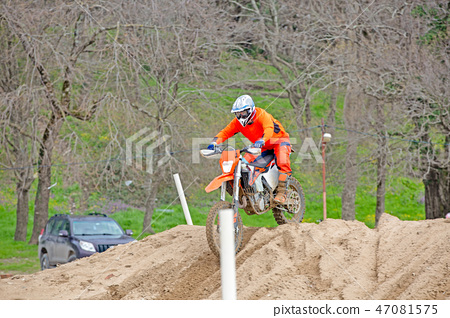helmet: (230, 91, 253, 130)
